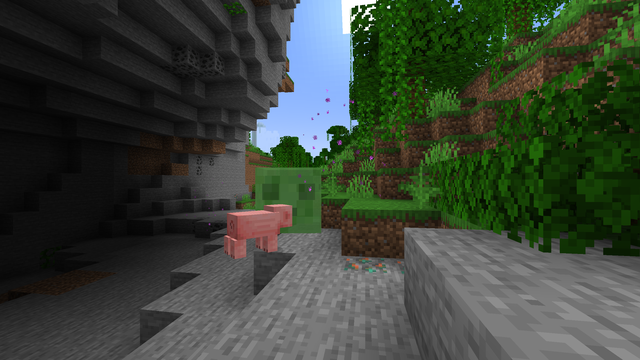cochons: (224, 209, 278, 258)
slimes: (249, 164, 325, 234)
